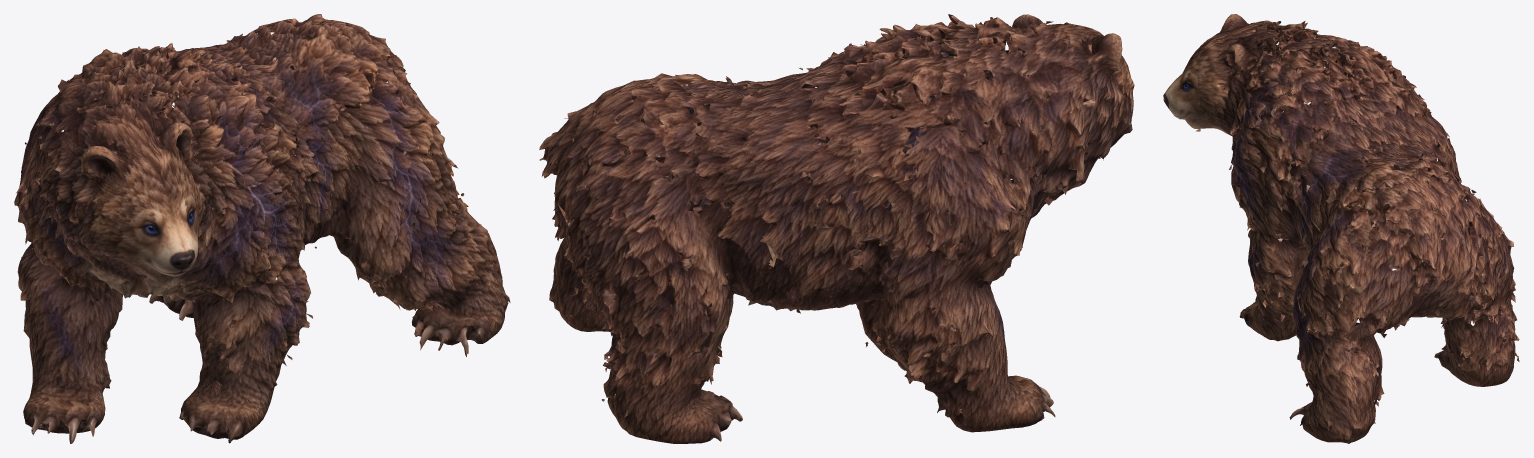
3 renders of one model, left to right at view 1: azimuth 30°, elevation 25°; view 2: azimuth 150°, elevation 25°; view 3: azimuth 270°, elevation 25°, orthographic. The views are drawn at different scales.
Parts seen in each view (by area): view 1: Mesh_0; view 2: Mesh_0; view 3: Mesh_0.
Boxes of the visible parts, x1,y1,x2,y2 form: Mesh_0: (14, 14, 510, 443); Mesh_0: (539, 14, 1134, 443); Mesh_0: (1163, 14, 1519, 443).
Bounding box in the file's own units: 1.85 × 1.29 × 1.51.
Materials: 1 (1 with a texture image).
